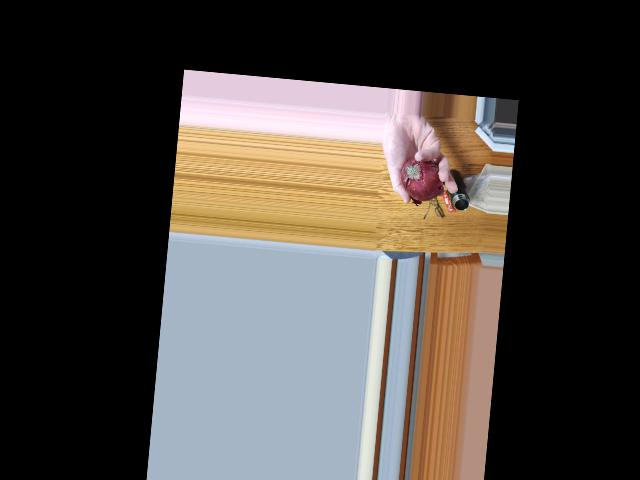onion: (399, 156, 440, 201)
